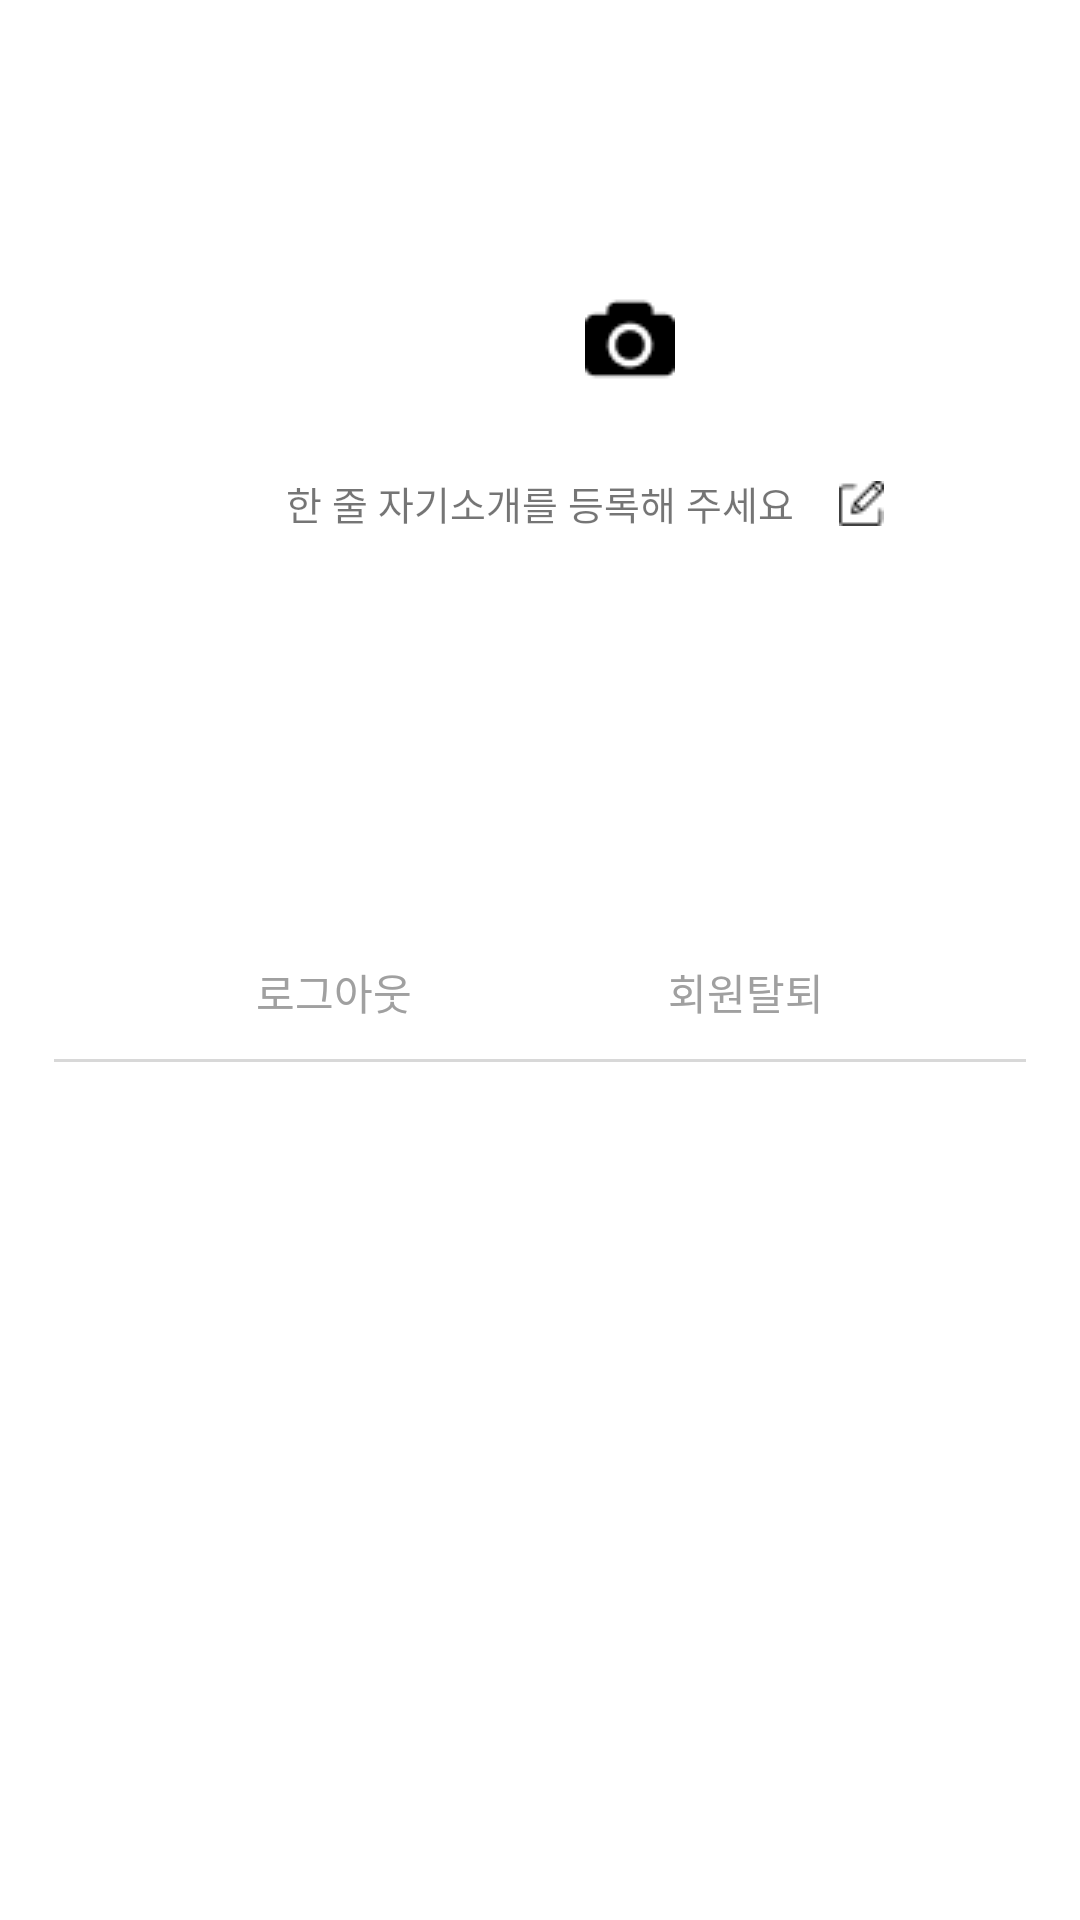

Where icons sit on this 1080x1920 app screen, as (x1, y1, x2, y2):
camera: (585, 300, 675, 378)
edit: (839, 481, 884, 526)
